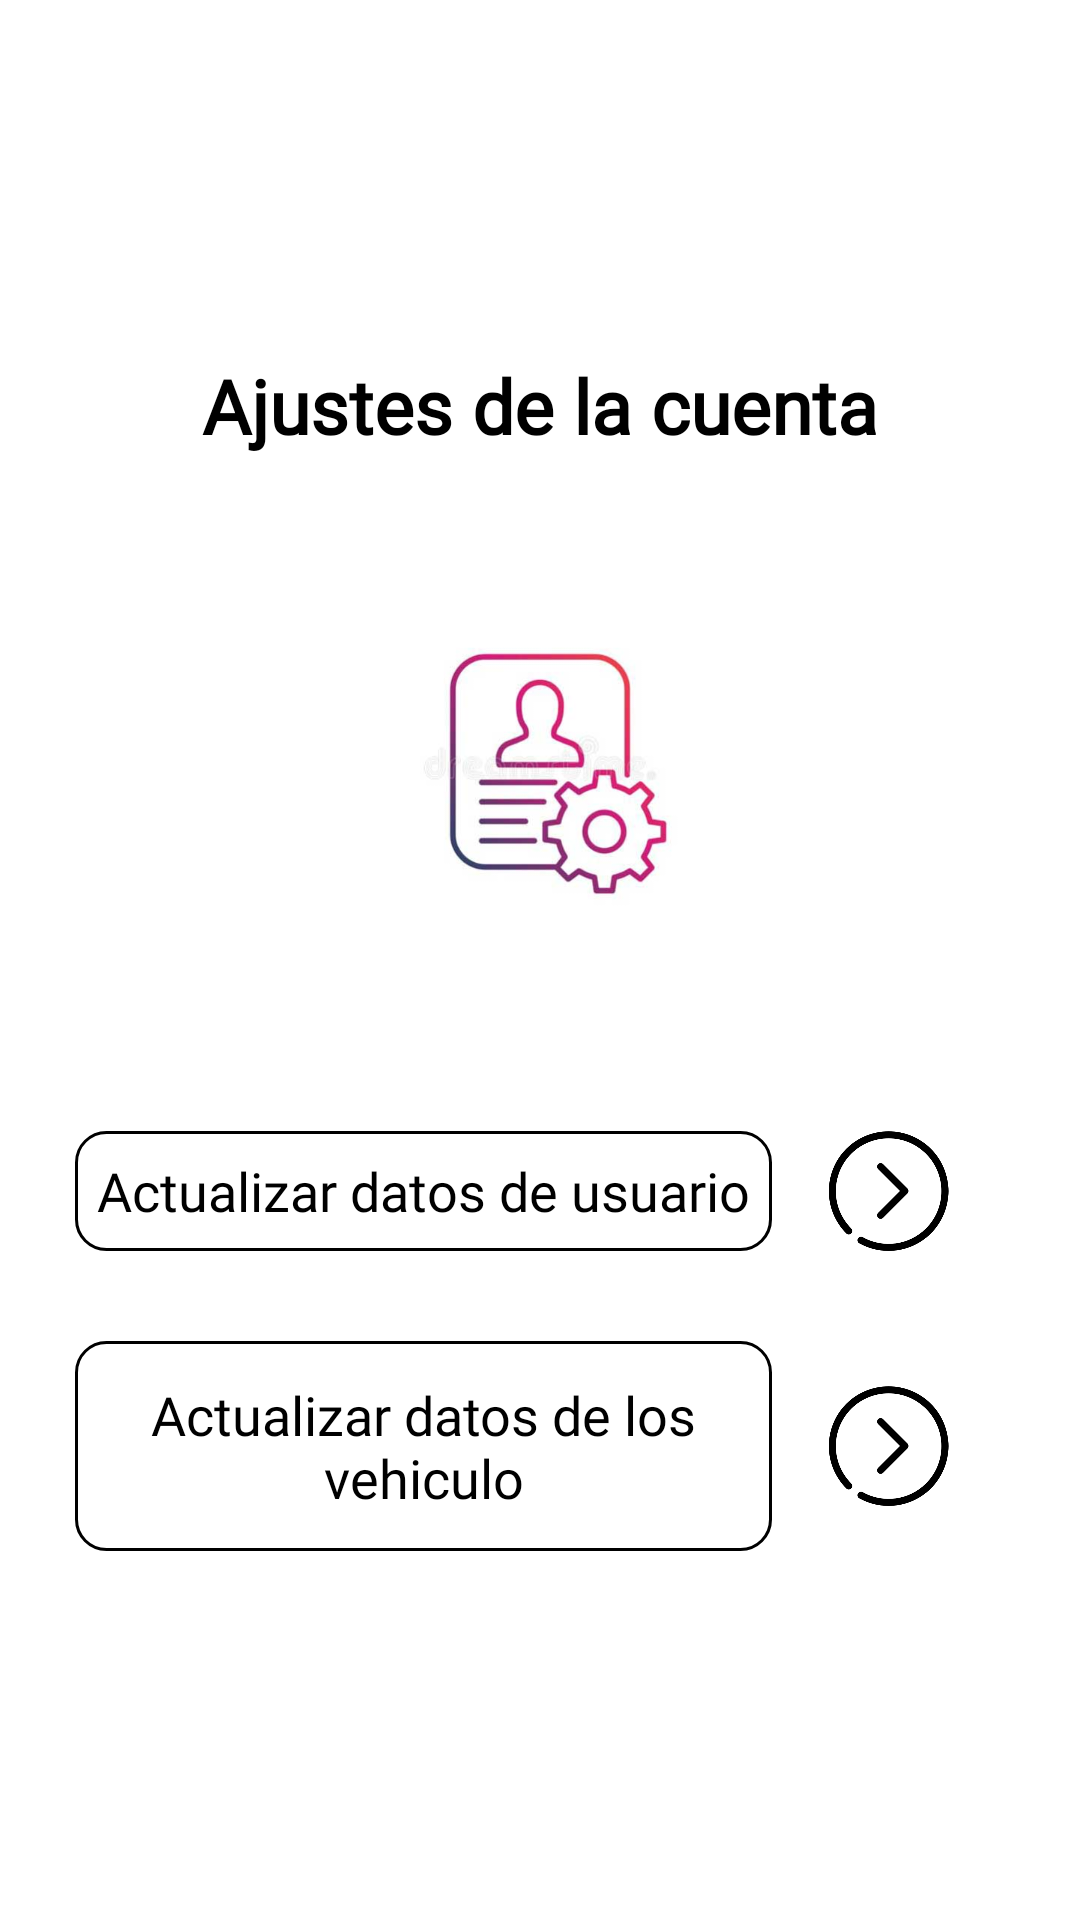

Icon click points for this 1080px x 1920px phone screenshot, format (x=x, y=y):
next: (x=889, y=1191), (x=889, y=1446)
